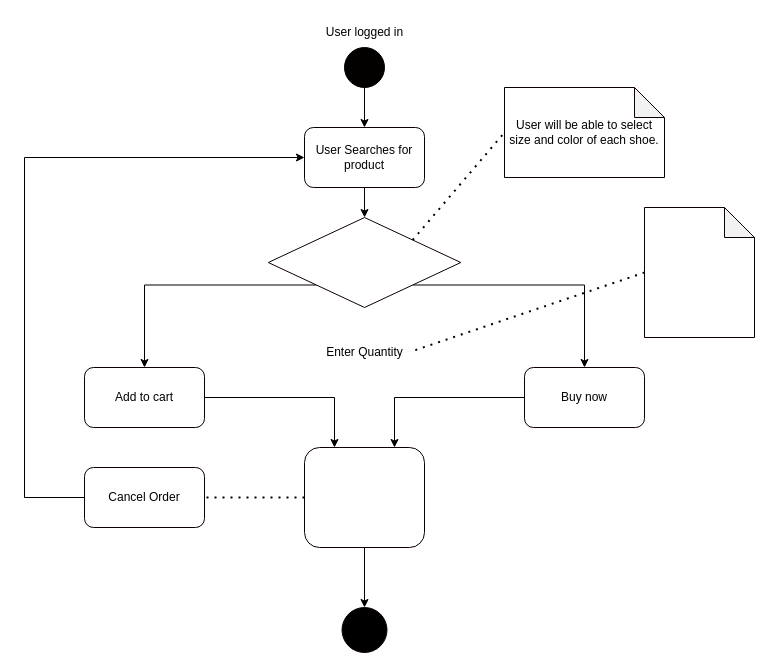
Image size: 772x670. Some labels were removed from this diagram. The shapes that lost their labels are listed below. From the top down, each one's centre as x and y in pixels, then its label:
At point (364, 262): "Desired Product".
At point (699, 272): "Quantity can and will be limited based on popularity of desired sneaker.".
At point (364, 497): "USER INPUT: -Shipping information -Payment information -Confirmation".
